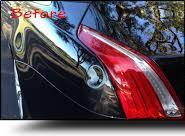dent: (87, 61, 110, 98)
